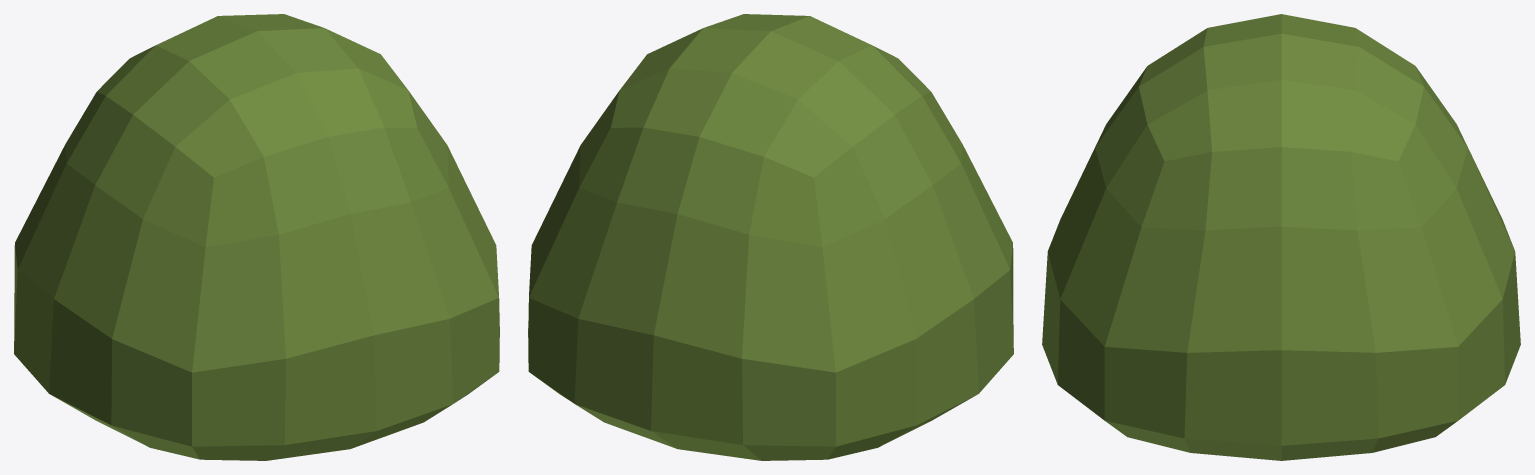
File: wild_pz_bush_15.glb
The picture shows the model from 3 angles, left to right: view 1: azimuth 30°, elevation 25°; view 2: azimuth 150°, elevation 25°; view 3: azimuth 270°, elevation 25°; orthographic projection.
Parts seen in each view (by area): view 1: pg_bushl_15; view 2: pg_bushl_15; view 3: pg_bushl_15.
Part boxes in pixels (<box>): pg_bushl_15: <box>14,14,499,460</box>; pg_bushl_15: <box>528,14,1013,460</box>; pg_bushl_15: <box>1042,14,1520,460</box>.
Bounding box in the file's own units: 0.9214 × 0.7724 × 0.9214.
